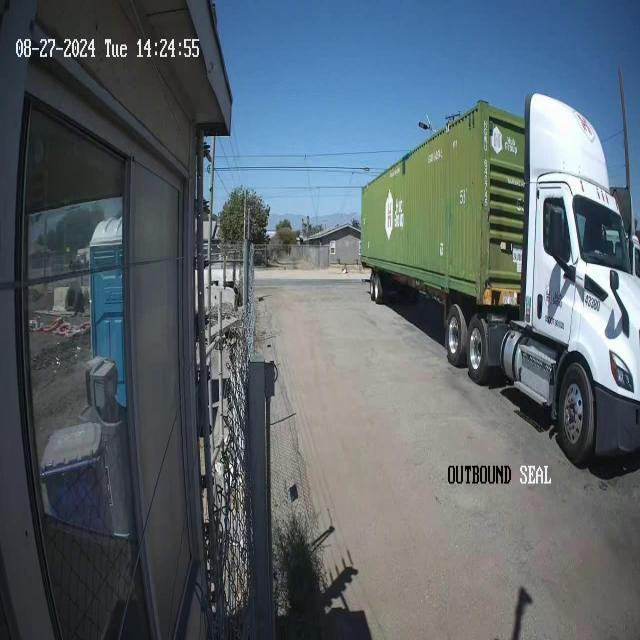TRUCK_IN: (359, 80, 639, 468)
